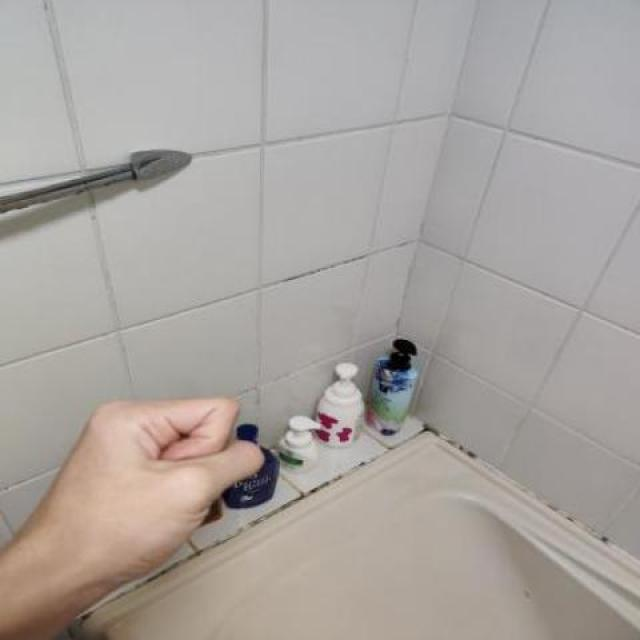fist: (0, 385, 263, 640)
